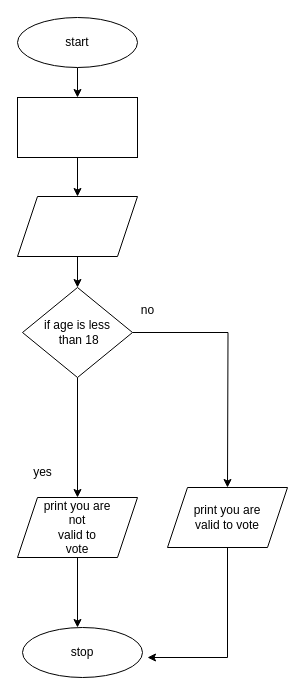
Image size: 305x695. Some labels were removed from this diagram. Each missing label, with the centre of its shape:
declare the variable age: point 77,127
read the age of the person: point 77,226
